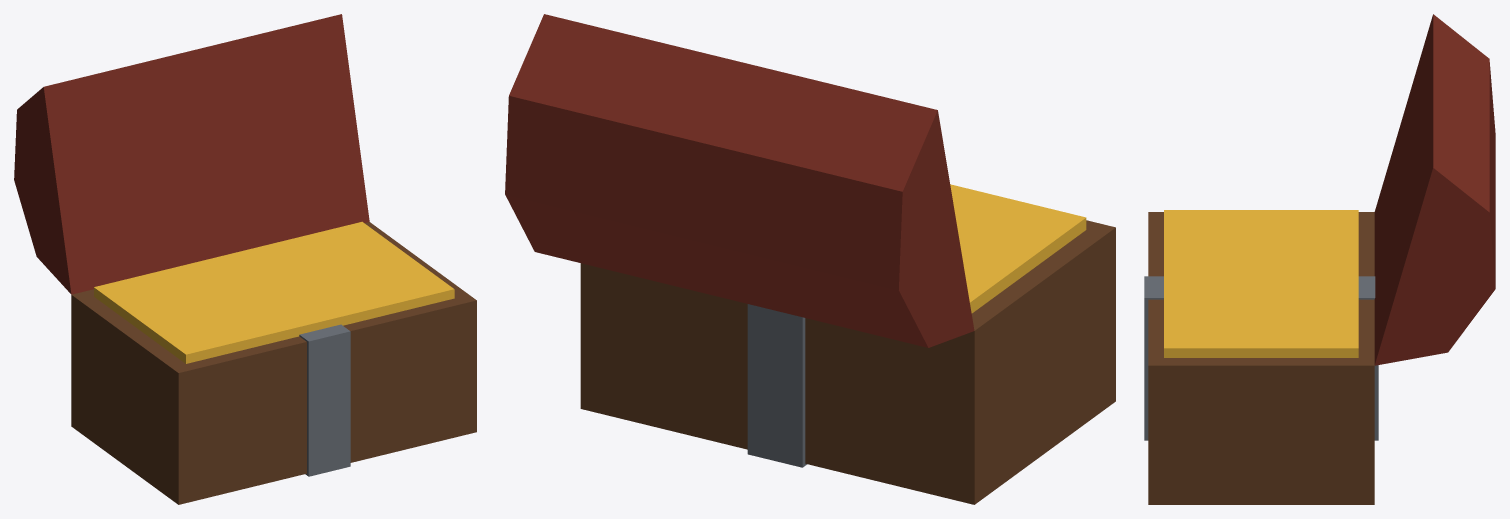
Rendered from SM_Prop_TreasureChestOpen_LQ.glb.
3 renders of one model, left to right at view 1: azimuth 30°, elevation 25°; view 2: azimuth 150°, elevation 25°; view 3: azimuth 270°, elevation 25°, orthographic. The views are drawn at different scales.
Visible parts, largest first — view 1: SM_Prop_TreasureChestOpen_LQ; view 2: SM_Prop_TreasureChestOpen_LQ; view 3: SM_Prop_TreasureChestOpen_LQ.
Boxes of the visible parts, x1,y1,x2,y2 form: SM_Prop_TreasureChestOpen_LQ: (14, 14, 476, 504); SM_Prop_TreasureChestOpen_LQ: (505, 14, 1115, 504); SM_Prop_TreasureChestOpen_LQ: (1144, 14, 1495, 504).
Size of the model in its own units: 0.9 by 0.9259 by 0.8697.
Materials: 1 (1 with a texture image).
